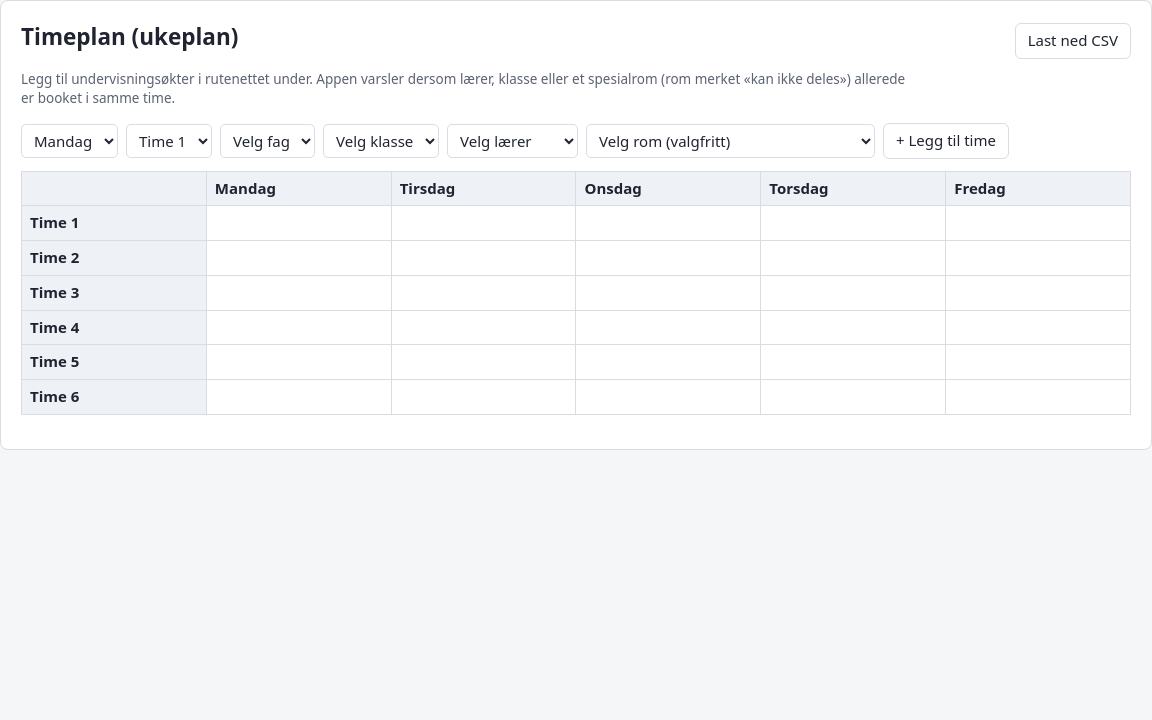
Test: TimeplanPanel › legger til en ny undervisningsøkt
The width and height of the screenshot is (1152, 720).
Step 1. Select "Norsk" in the 3rd dropdown → (268, 141), box [220,124,315,158]
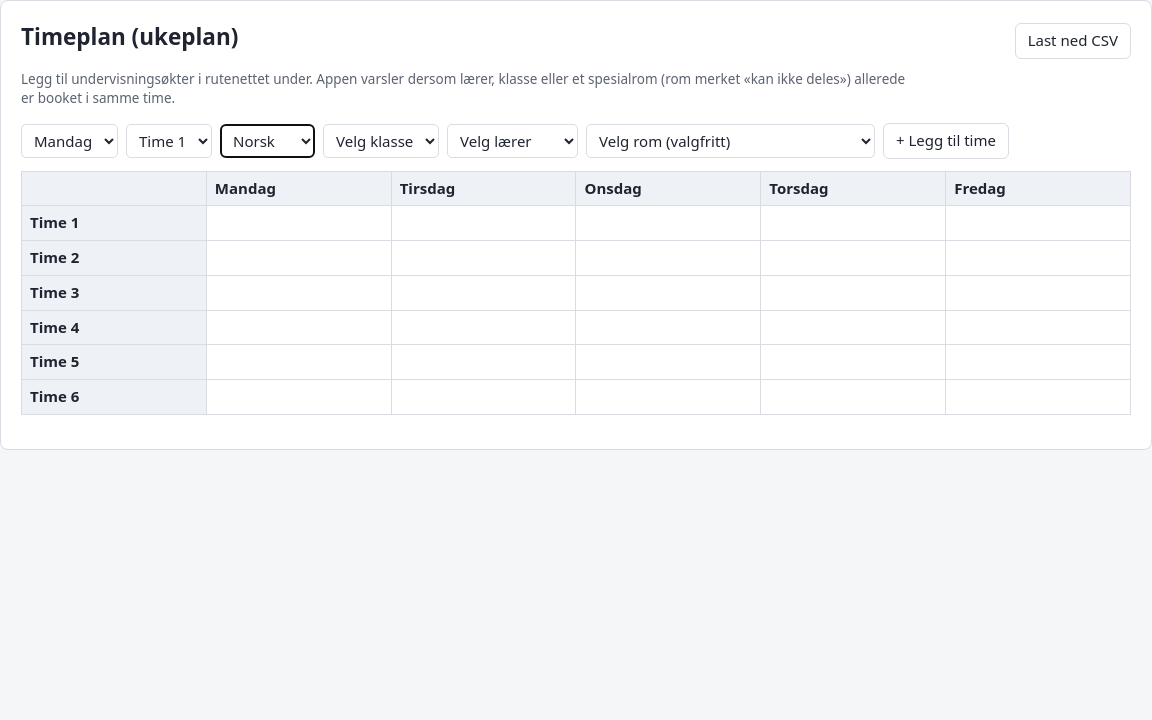
Step 2. Select "1A" in the 4th dropdown → (381, 141), box [323,124,439,158]
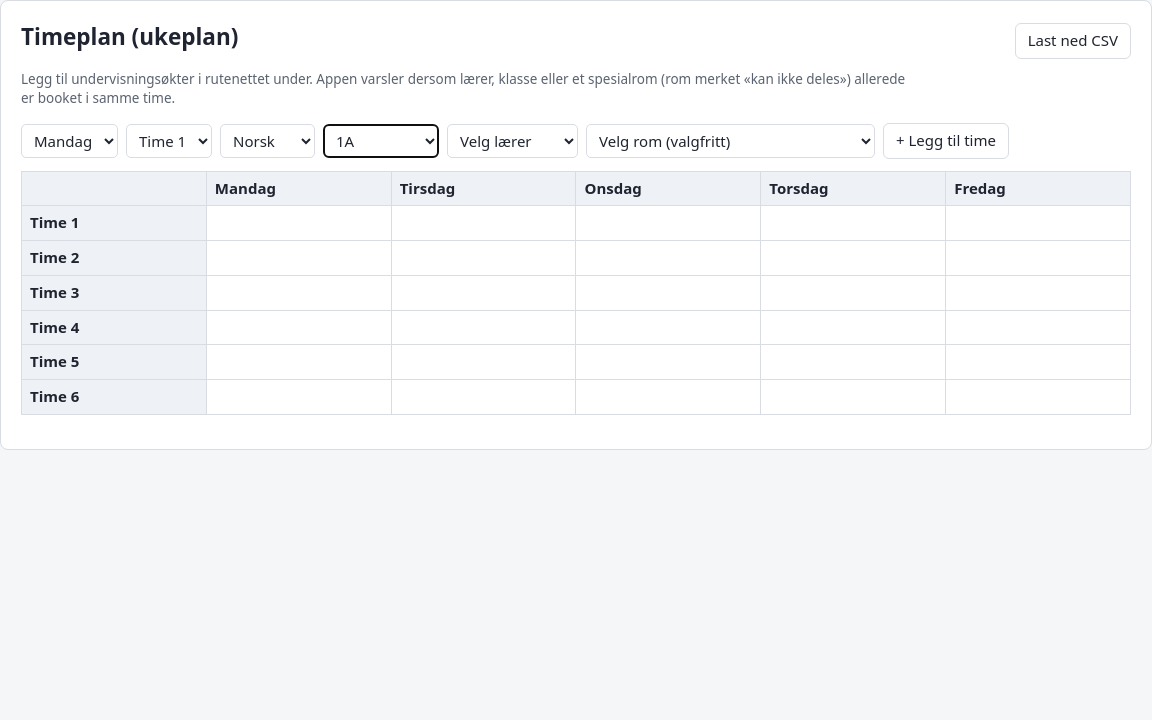
Step 3. Select "Lærer Larsen" in the 5th dropdown → (512, 141), box [447,124,578,158]
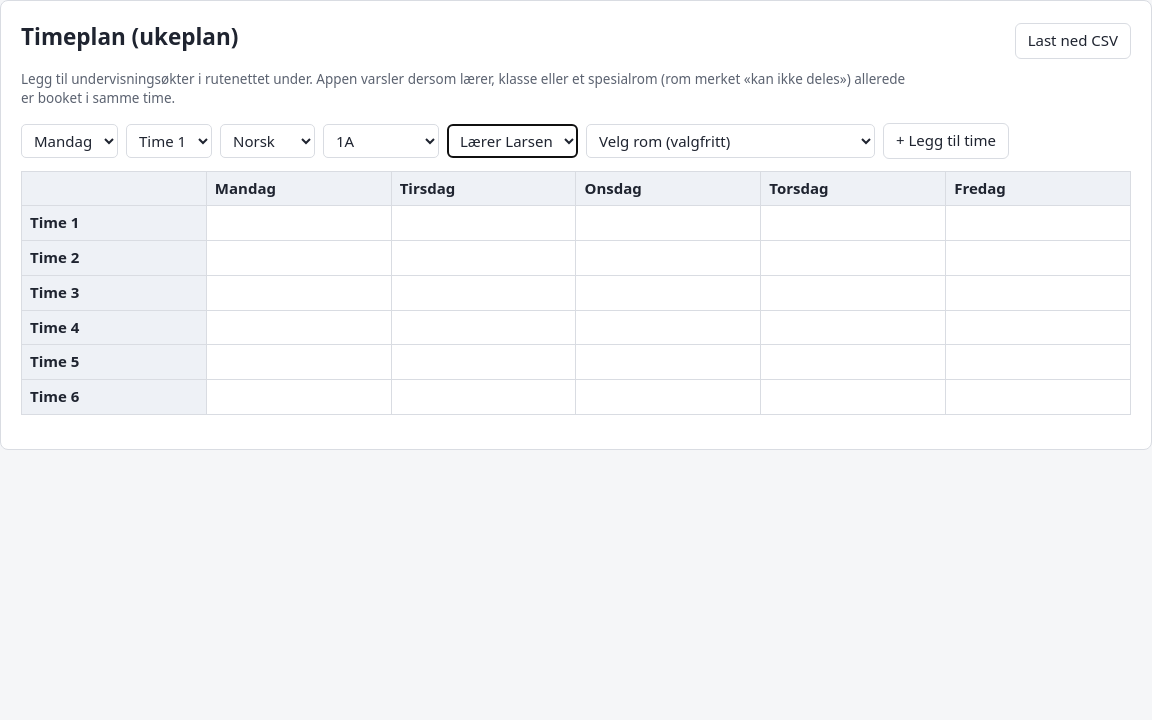
Step 4. Click the button "+ Legg til time" → (946, 141), box [883,123,1009,159]
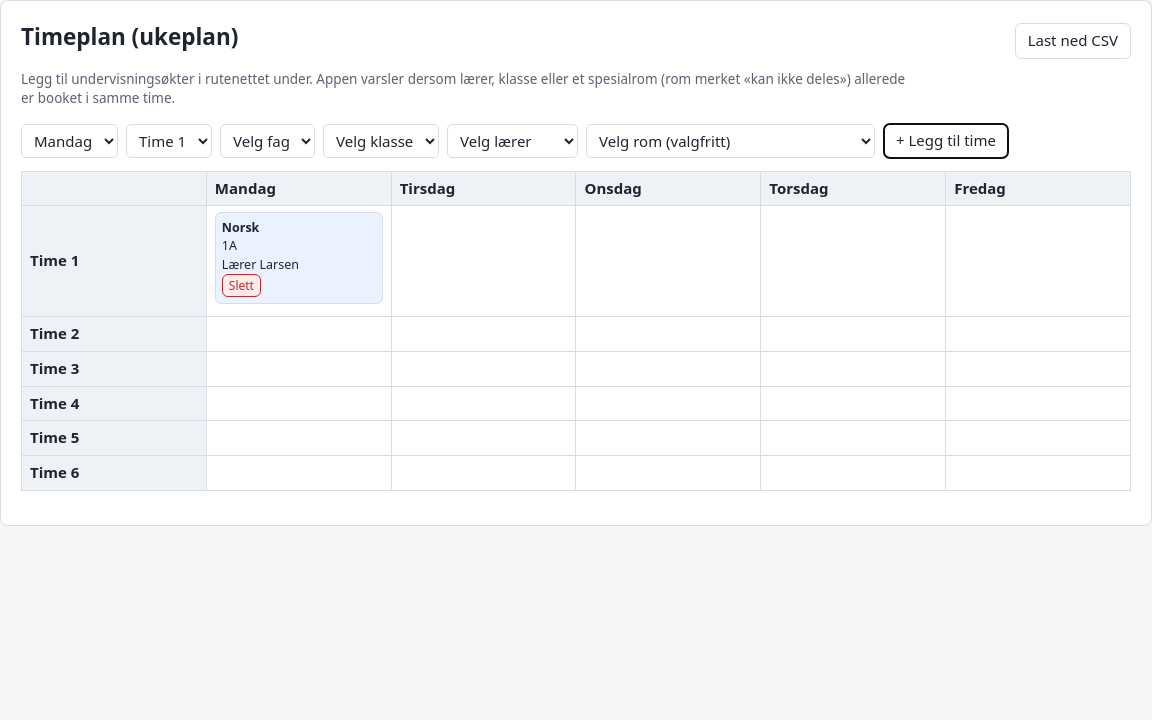
Now the text "Norsk" is shown, box [222,219,259,236]
